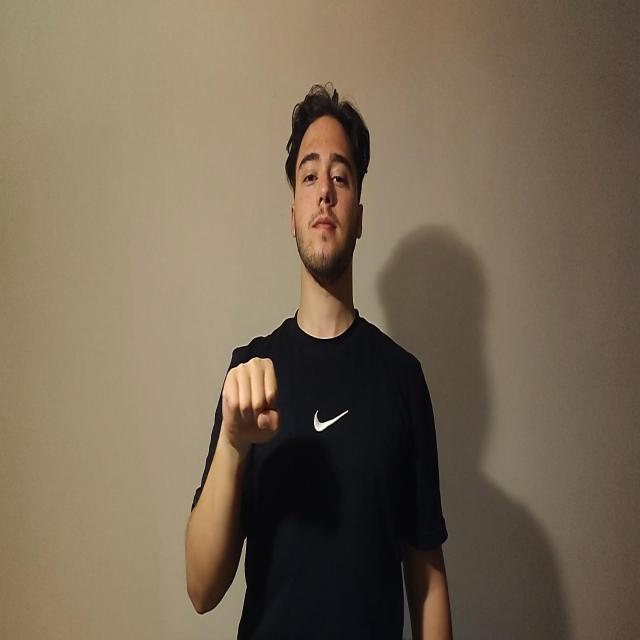yes: (221, 356, 280, 461)
